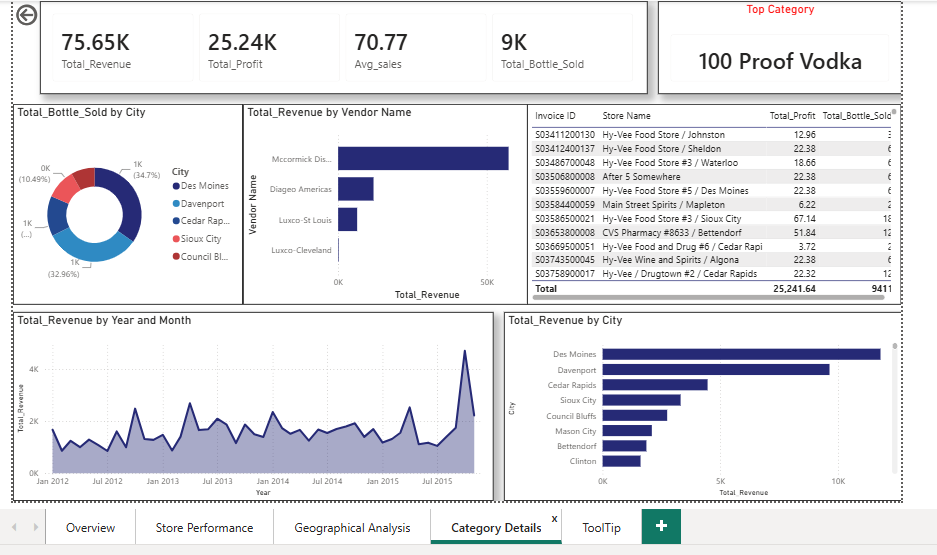

The dashboard page shown, as its layout file describes it:
{"tool":"powerbi","page":{"name":"Category Details","canvas":[1280,720],"ordinal":3},"visuals":[{"type":"cardVisual","fields":{"Data":["LiquorSales_dataset.Total_Revenue","LiquorSales_dataset.Total_Profit","LiquorSales_dataset.Avg_sales","LiquorSales_dataset.Total_Bottle_Sold"]},"box":[38.6,0,875.2,134.4],"z":0},{"type":"cardVisual","title":"Top Category ","fields":{"Data":["Min(LiquorSales_dataset.Category Name)"]},"box":[928.9,0,351.1,134.4],"z":1},{"type":"actionButton","box":[0,0,100,40],"z":2},{"type":"actionButton","box":[0,0,38.6,40.3],"z":3},{"type":"lineChart","fields":{"Y":["LiquorSales_dataset.Total_Revenue"],"Category":["DateTable.Date.Variation.Date Hierarchy.Year","DateTable.Date.Variation.Date Hierarchy.Month"]},"box":[0,448.5,692.1,272.1],"z":4},{"type":"barChart","fields":{"Category":["LiquorSales_dataset.City"],"Y":["LiquorSales_dataset.Total_Revenue"]},"box":[707.2,448.5,572.8,272.1],"z":6},{"type":"tableEx","fields":{"Values":["LiquorSales_dataset.Invoice ID","LiquorSales_dataset.Store Name","LiquorSales_dataset.Total_Profit","LiquorSales_dataset.Total_Bottle_Sold"]},"box":[740.8,147.8,539.2,288.9],"z":7},{"type":"clusteredBarChart","fields":{"Category":["LiquorSales_dataset.Vendor Name"],"Y":["LiquorSales_dataset.Total_Revenue"]},"box":[330.9,147.8,409.9,288.9],"z":8},{"type":"donutChart","fields":{"Category":["LiquorSales_dataset.City"],"Y":["LiquorSales_dataset.Total_Bottle_Sold"]},"box":[0,147.8,330.9,288.9],"z":9}]}

Visuals, with their boxes in screenshot pixels (x1, y1, x2, y2):
cardVisual - LiquorSales_dataset.Total_Revenue x LiquorSales_dataset.Total_Profit: 37,0,646,91
"Top Category " cardVisual: 657,0,901,91
actionButton: 10,0,79,25
actionButton: 10,0,37,26
lineChart - LiquorSales_dataset.Total_Revenue x DateTable.Date.Variation.Date Hierarchy.Year: 10,310,492,499
barChart - LiquorSales_dataset.City x LiquorSales_dataset.Total_Revenue: 502,310,901,499
tableEx - LiquorSales_dataset.Invoice ID x LiquorSales_dataset.Store Name: 526,100,901,302
clusteredBarChart - LiquorSales_dataset.Vendor Name x LiquorSales_dataset.Total_Revenue: 240,100,526,302
donutChart - LiquorSales_dataset.City x LiquorSales_dataset.Total_Bottle_Sold: 10,100,240,302
